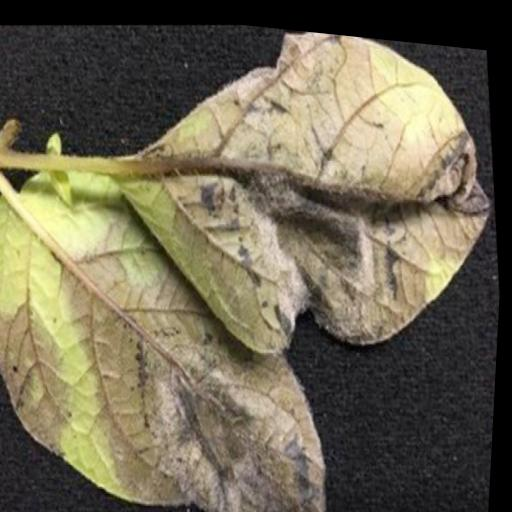Late Blight: (102, 9, 512, 388), (0, 112, 355, 512)
